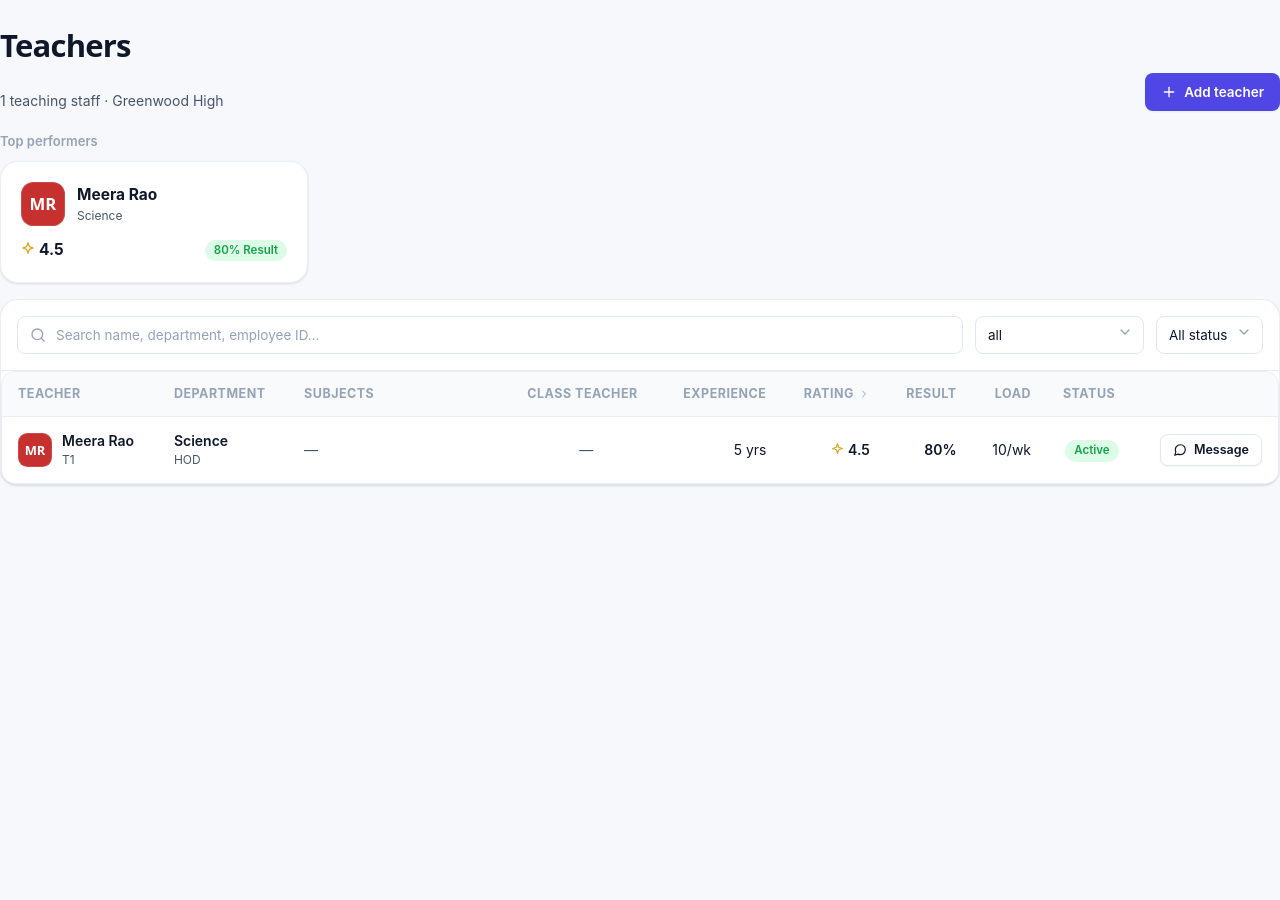
it: Teacher profile — App access card › shows "Not yet invited to the app" when no linked account matches
Expected: the 1st text "Meera Rao" is shown, x1=77 y1=183 x2=157 y2=207
Step 1. Click the text "Meera Rao" in the row of "yrs" → (98, 441), box x1=62 y1=430 x2=134 y2=452
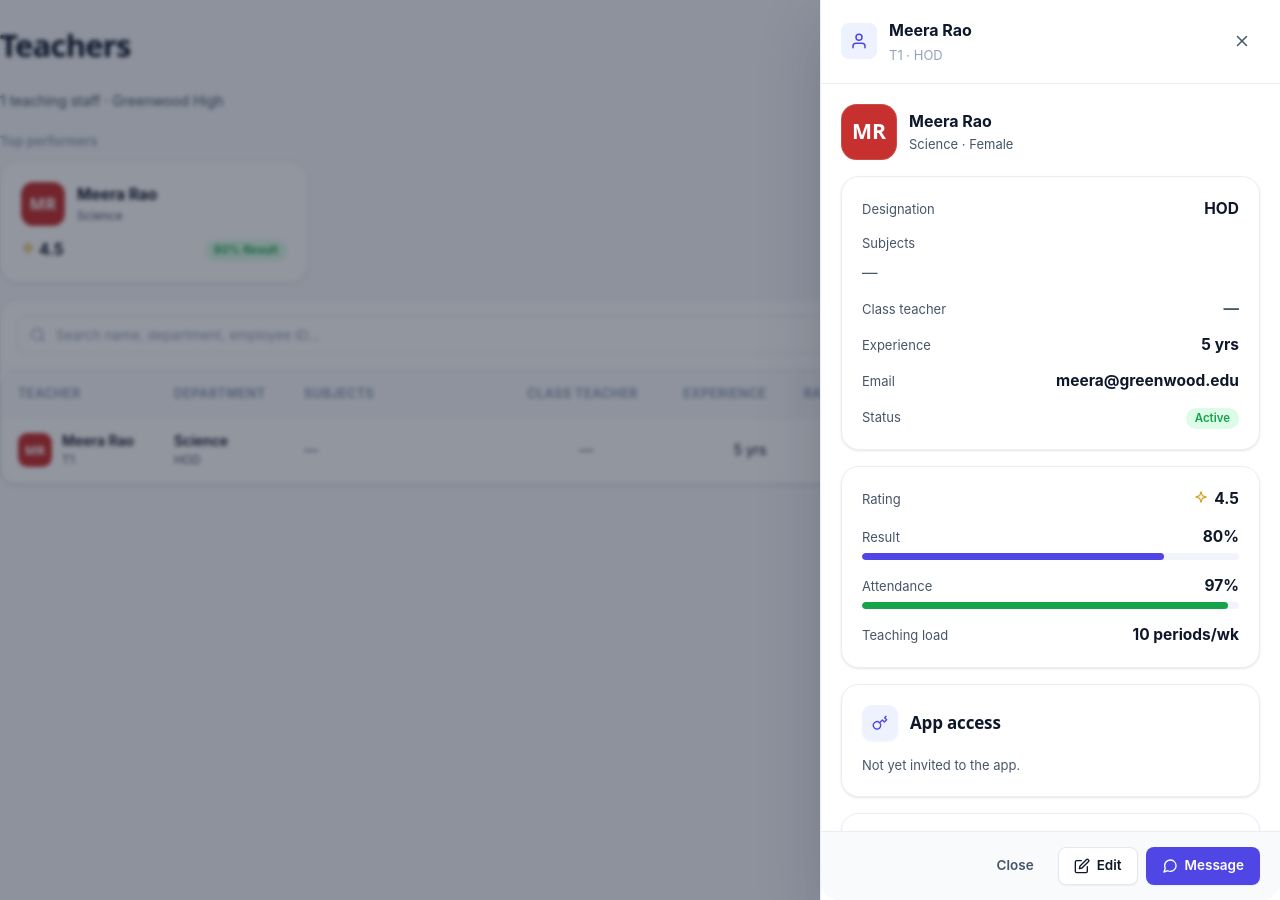
Now the text "Not yet invited to the app." is shown, box x1=862 y1=758 x2=1020 y2=774
